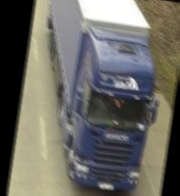truck: (24, 0, 174, 196)
